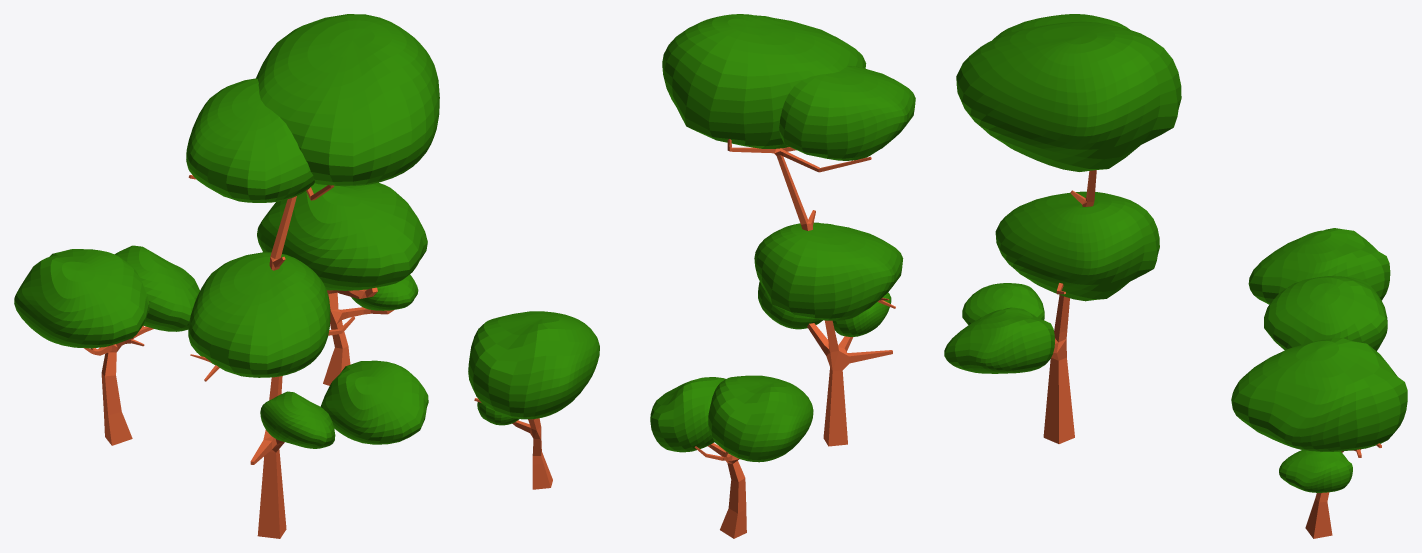
Rendered from arvores oi pessoal do grupo.fbx.
The picture shows the model from 3 angles, left to right: view 1: azimuth 30°, elevation 25°; view 2: azimuth 150°, elevation 25°; view 3: azimuth 270°, elevation 25°; orthographic projection. The views are drawn at different scales.
Visible parts, largest first — view 1: Sphere.008, Sphere.006, Sphere.002, Sphere.007, Sphere, Sphere.005, Cube.002, Sphere.001, Sphere.004, Cube, Cube.001, Sphere.003; view 2: Sphere.008, Sphere.002, Sphere.006, Sphere.007, Sphere, Cube.002, Sphere.001, Cube, Sphere.004, Cube.001, Sphere.005; view 3: Sphere.008, Sphere.002, Sphere.006, Sphere.001, Sphere, Sphere.005, Cube.002, Sphere.003, Sphere.004, Cube.001, Sphere.007.
Boxes of the visible parts, box(x1,y1,x2,y2) form: Sphere.008: box(256, 14, 439, 186); Sphere.006: box(188, 252, 330, 377); Sphere.002: box(257, 182, 427, 290); Sphere.007: box(186, 78, 314, 202); Sphere: box(14, 249, 149, 348); Sphere.005: box(320, 360, 428, 444); Cube.002: box(188, 175, 354, 538); Sphere.001: box(114, 245, 199, 331); Sphere.004: box(260, 391, 335, 448); Cube: box(84, 325, 153, 445); Cube.001: box(323, 287, 393, 385); Sphere.003: box(351, 274, 418, 310); Sphere.008: box(662, 14, 866, 148); Sphere.002: box(468, 311, 599, 419); Sphere.006: box(754, 222, 903, 320); Sphere.007: box(779, 66, 915, 160); Sphere: box(708, 375, 813, 462); Cube.002: box(727, 139, 895, 446); Sphere.001: box(650, 377, 725, 452); Cube: box(694, 443, 746, 538); Sphere.004: box(832, 292, 891, 336); Cube.001: box(474, 398, 552, 489); Sphere.005: box(758, 281, 822, 329); Sphere.008: box(956, 21, 1181, 171); Sphere.002: box(1231, 338, 1407, 451); Sphere.006: box(995, 191, 1159, 301); Sphere.001: box(1264, 276, 1387, 351); Sphere: box(1248, 228, 1390, 304); Sphere.005: box(944, 307, 1054, 373); Cube.002: box(1043, 170, 1096, 443); Sphere.003: box(1279, 450, 1352, 492); Sphere.004: box(962, 283, 1044, 324); Cube.001: box(1305, 443, 1381, 538); Sphere.007: box(992, 14, 1129, 40).
Bounding box in the file's own units: 4180 × 4933 × 4623.
